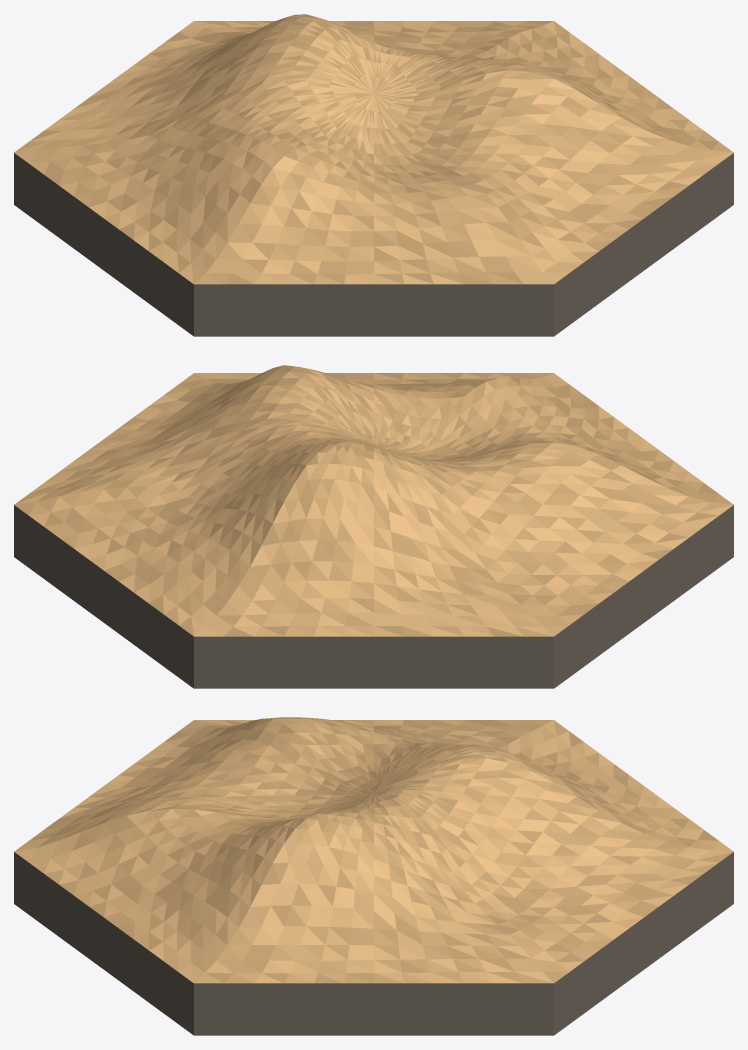
File: TERRAIN_DESERT_HILLS_v02.fbx
The picture shows the model from 3 angles, top to bottom: view 1: azimuth 30°, elevation 25°; view 2: azimuth 150°, elevation 25°; view 3: azimuth 270°, elevation 25°; orthographic projection.
Visible parts, largest first — view 1: TERRAIN_DESERT_HILLS_v02; view 2: TERRAIN_DESERT_HILLS_v02; view 3: TERRAIN_DESERT_HILLS_v02.
Boxes of the visible parts, x1,y1,x2,y2 form: TERRAIN_DESERT_HILLS_v02: [14, 14, 733, 336]; TERRAIN_DESERT_HILLS_v02: [14, 365, 733, 688]; TERRAIN_DESERT_HILLS_v02: [14, 717, 733, 1035].
Bounding box in the file's own units: 173 × 44.76 × 200.
